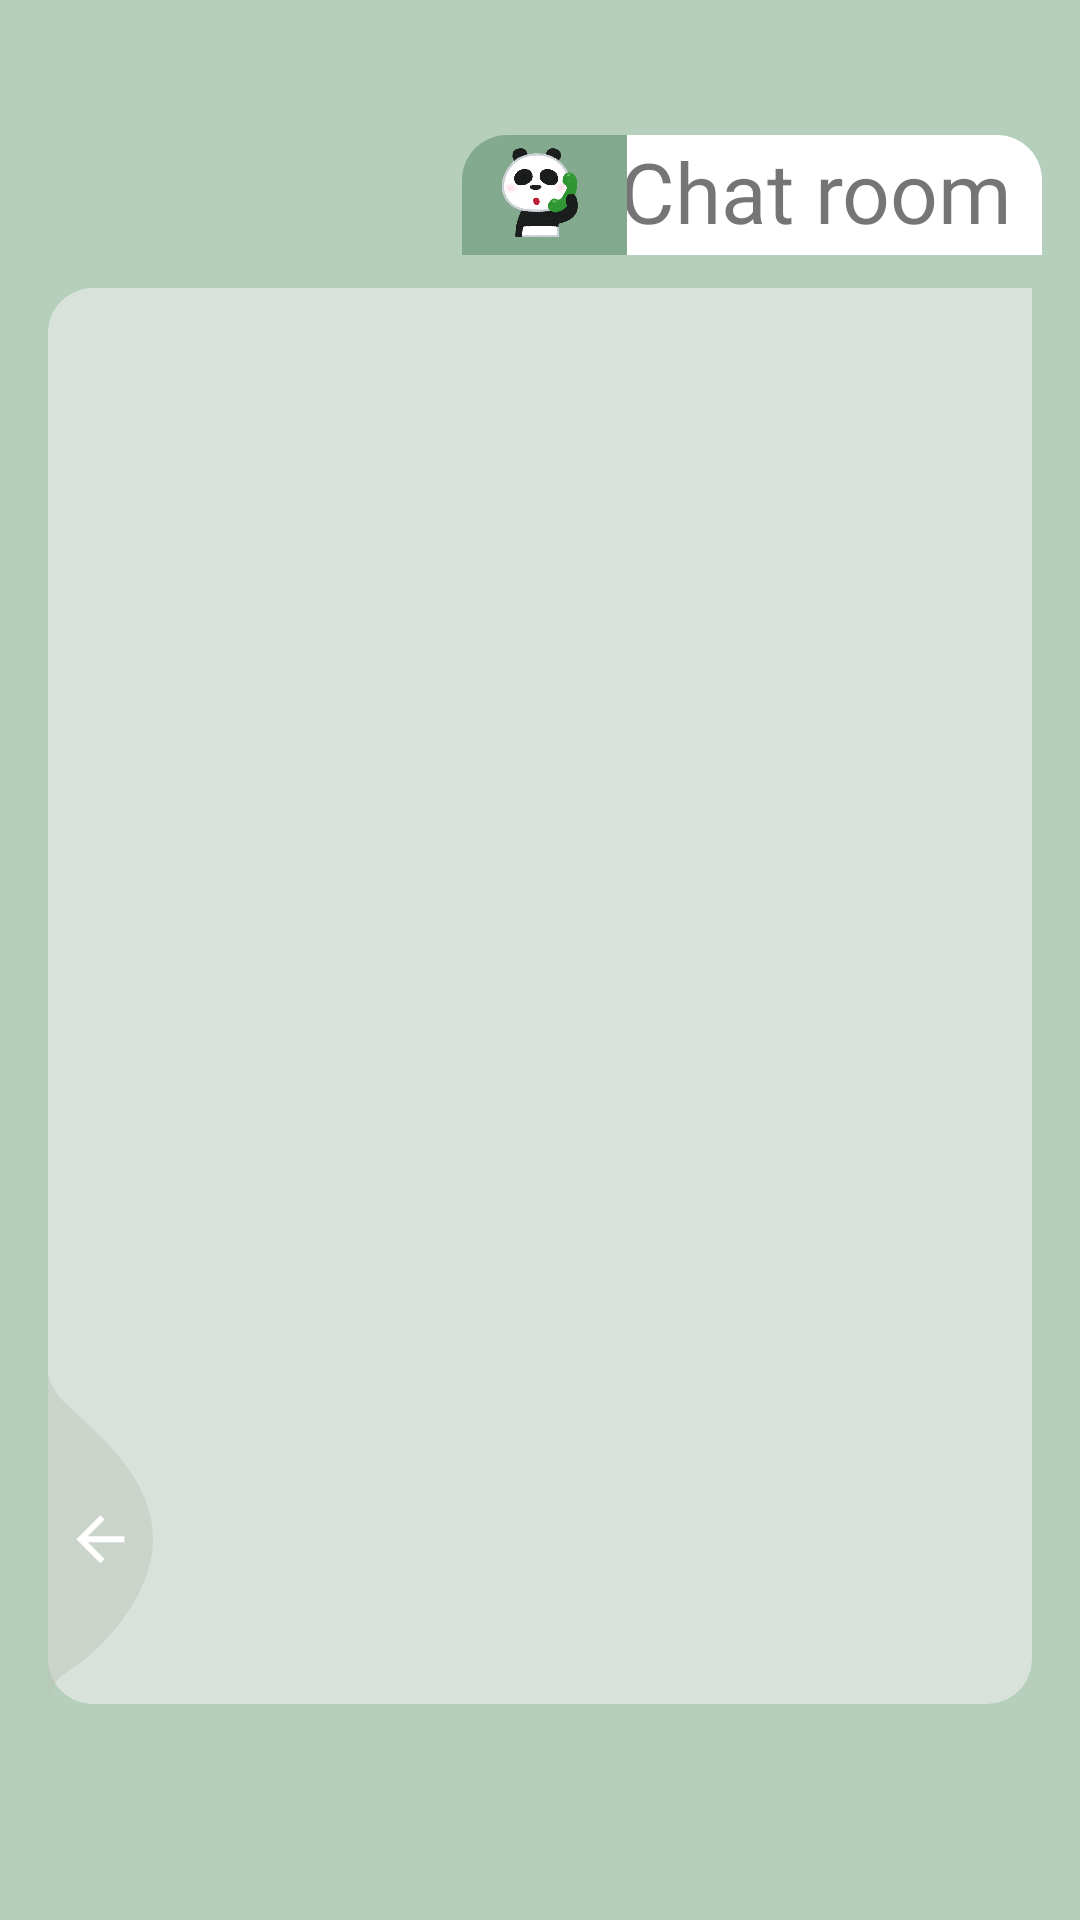

Icon click points for this 1080 × 1920 phone screenshot, format [x,y]:
back: [100,1539]
mark network status tsuuwachu: [544,195]
